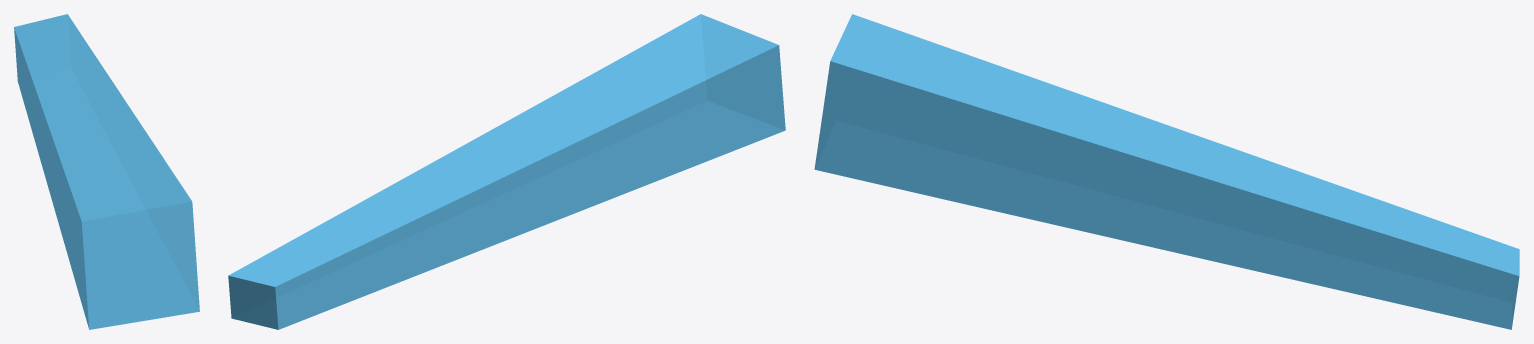
Rendered from Event_421115418_HBrechit_10.fbx.
3 renders of one model, left to right at view 1: azimuth 30°, elevation 25°; view 2: azimuth 150°, elevation 25°; view 3: azimuth 270°, elevation 25°, orthographic. The views are drawn at different scales.
Visible parts, largest first — view 1: Model; view 2: Model; view 3: Model.
Part boxes in pixels (box(x1,y1,x2,y2)): Model: box(14, 14, 199, 329); Model: box(228, 14, 785, 329); Model: box(814, 14, 1519, 329).
Bounding box in the file's own units: 2.48 × 1.22 × 4.74.
